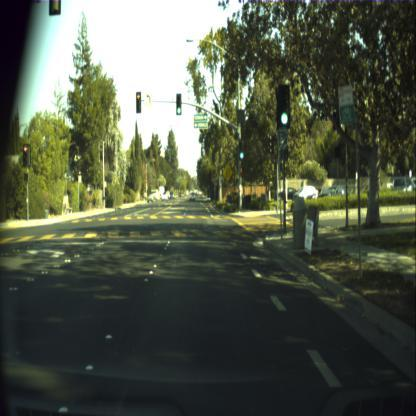Green: (278, 86, 288, 126), (176, 93, 181, 114), (239, 141, 243, 159)
RedLeft: (23, 144, 28, 166), (136, 92, 141, 112)
